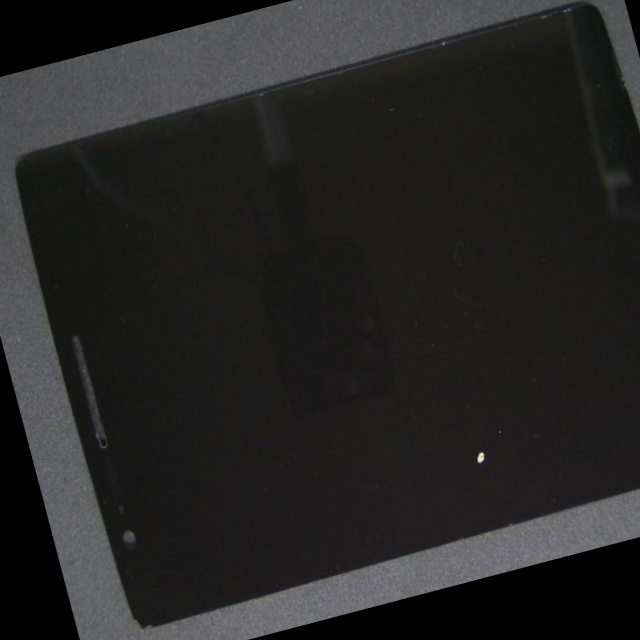stain: (173, 172, 640, 636)
